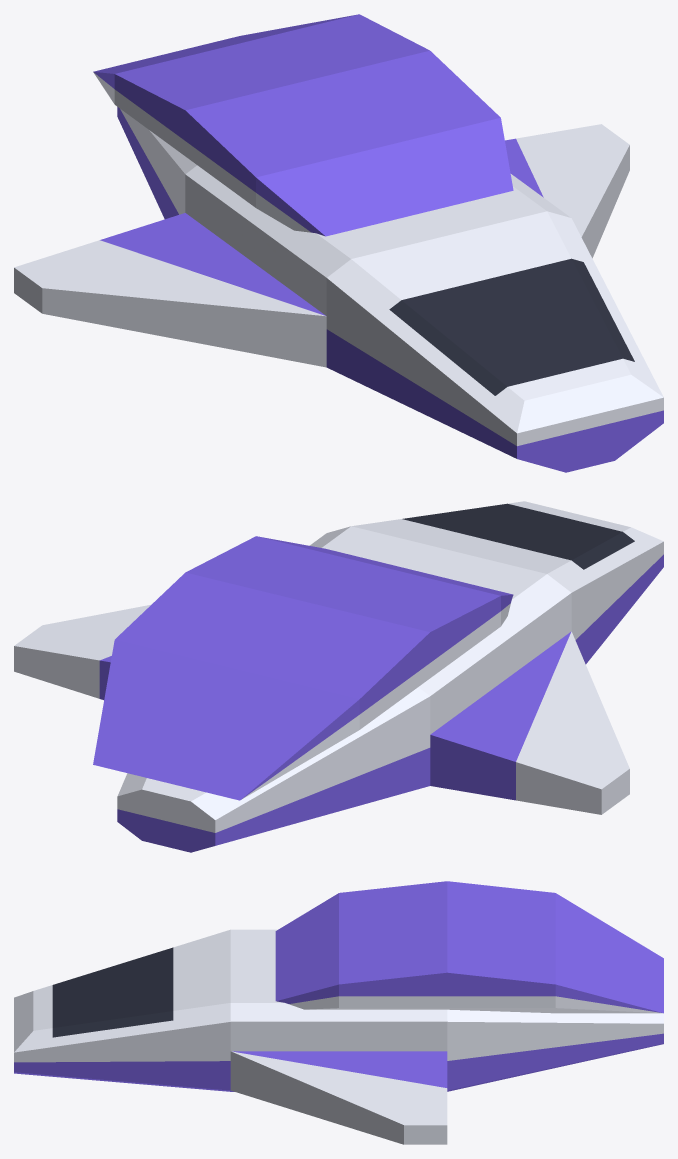
The model's file is Hovercraft.fbx.
3 renders of one model, top to bottom at view 1: azimuth 30°, elevation 25°; view 2: azimuth 150°, elevation 25°; view 3: azimuth 270°, elevation 25°, orthographic. The views are drawn at different scales.
Parts seen in each view (by area): view 1: mergedBlocks; view 2: mergedBlocks; view 3: mergedBlocks.
Boxes of the visible parts, x1,y1,x2,y2 form: mergedBlocks: (14, 14, 663, 472); mergedBlocks: (14, 501, 663, 852); mergedBlocks: (14, 881, 663, 1144).
Bounding box in the file's own units: 24 × 7 × 30.
